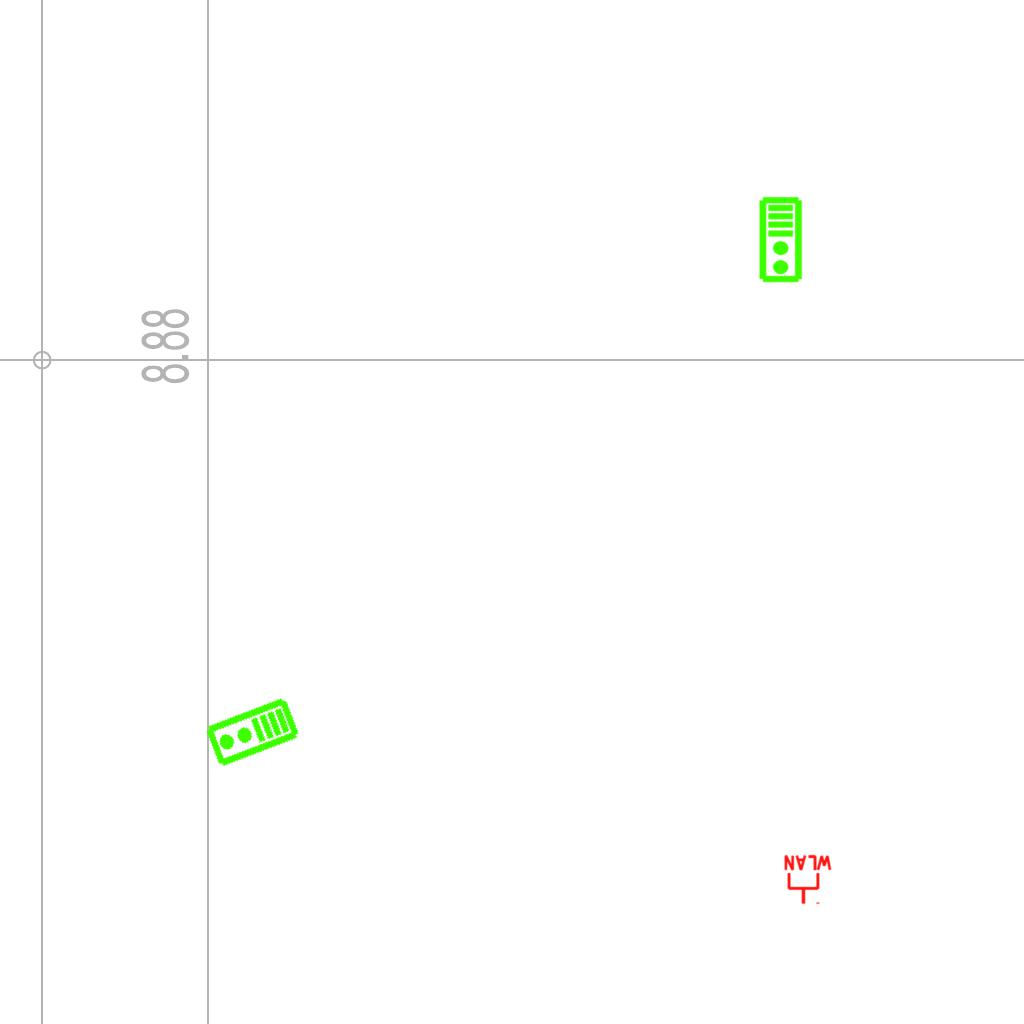Gegensprechanlage_mit_Video: (203, 695, 302, 771), (758, 196, 805, 284)
WLAN: (782, 854, 834, 906)
